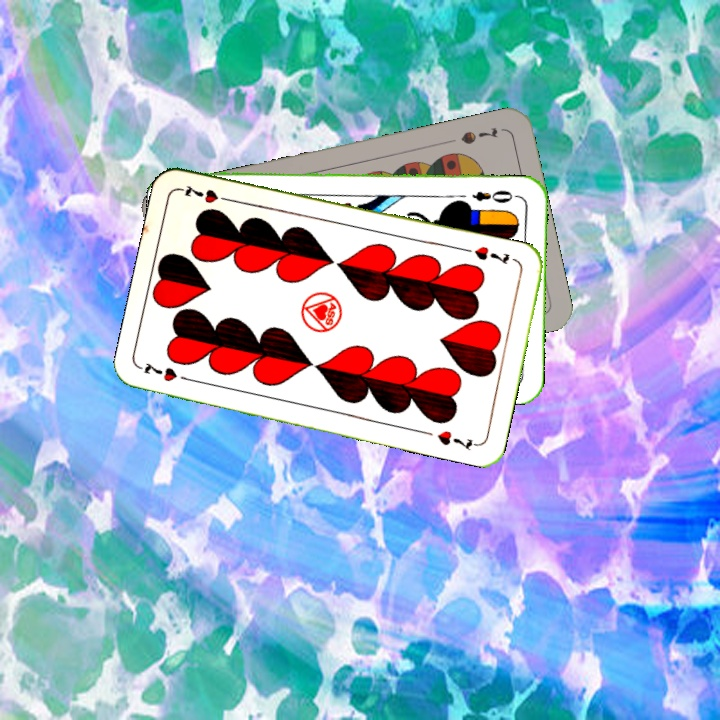EO: (468, 186, 521, 205)
H7: (138, 358, 196, 385), (470, 242, 512, 268)
S7: (457, 123, 500, 147)
